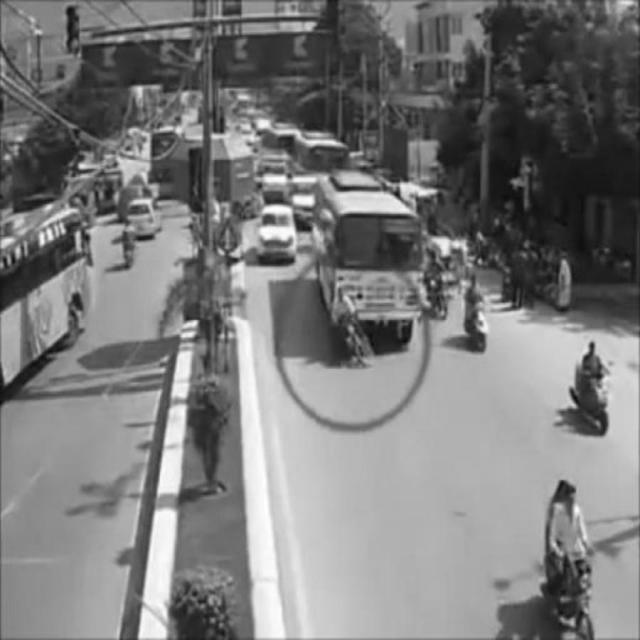accident: (316, 177, 422, 365)
vehicle: (539, 481, 599, 639), (571, 337, 611, 433), (258, 202, 296, 266), (463, 277, 491, 347), (126, 196, 162, 236), (428, 250, 448, 320), (122, 215, 139, 275)
